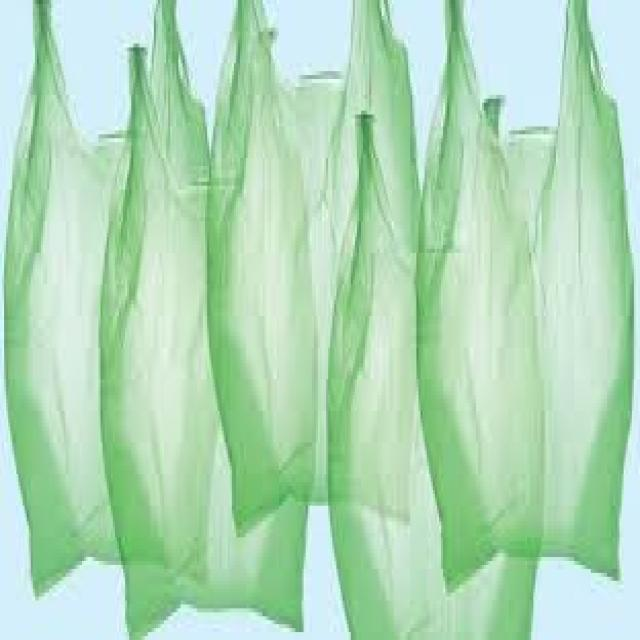plastic: (96, 28, 316, 636), (410, 0, 632, 585), (324, 95, 542, 636), (4, 0, 195, 593), (200, 0, 414, 529)
